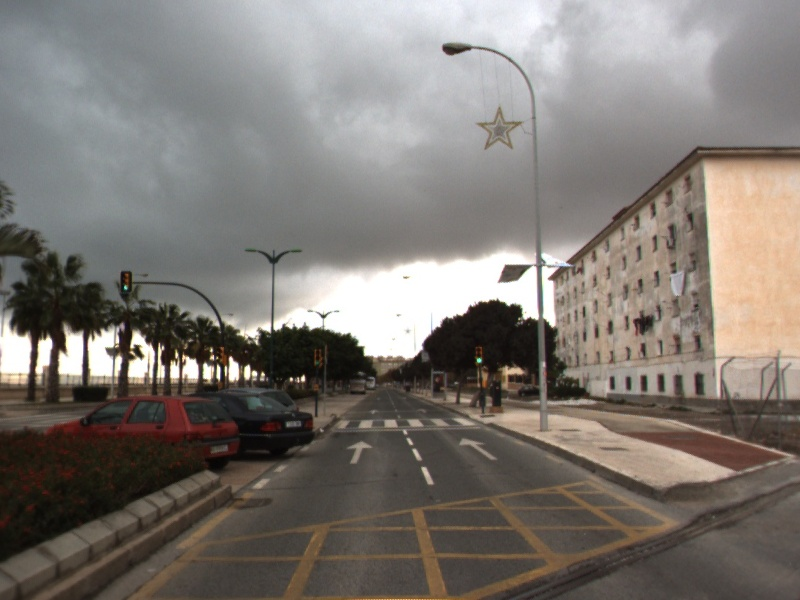STRAIGHT: (457, 436, 500, 462), (344, 438, 375, 466)
